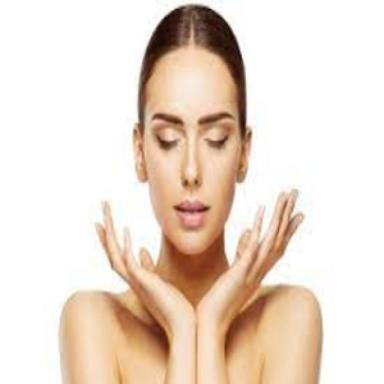normal skin: (61, 42, 321, 384)
